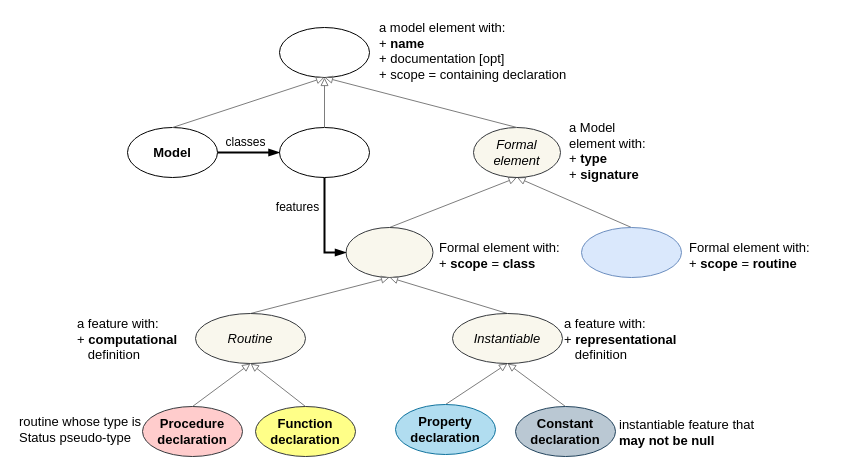
The diagram is 844 pixels wide and 474 high, and some of its shapes have lost their labels. The shapes that lost their labels are listed below. From the top down, each one's box as (x1, y1, x2, y2) in pixels, then its label:
(278, 26, 370, 78): Model element
(278, 126, 370, 178): Class
(345, 226, 433, 278): Feature
(580, 226, 682, 278): Variable declaration
